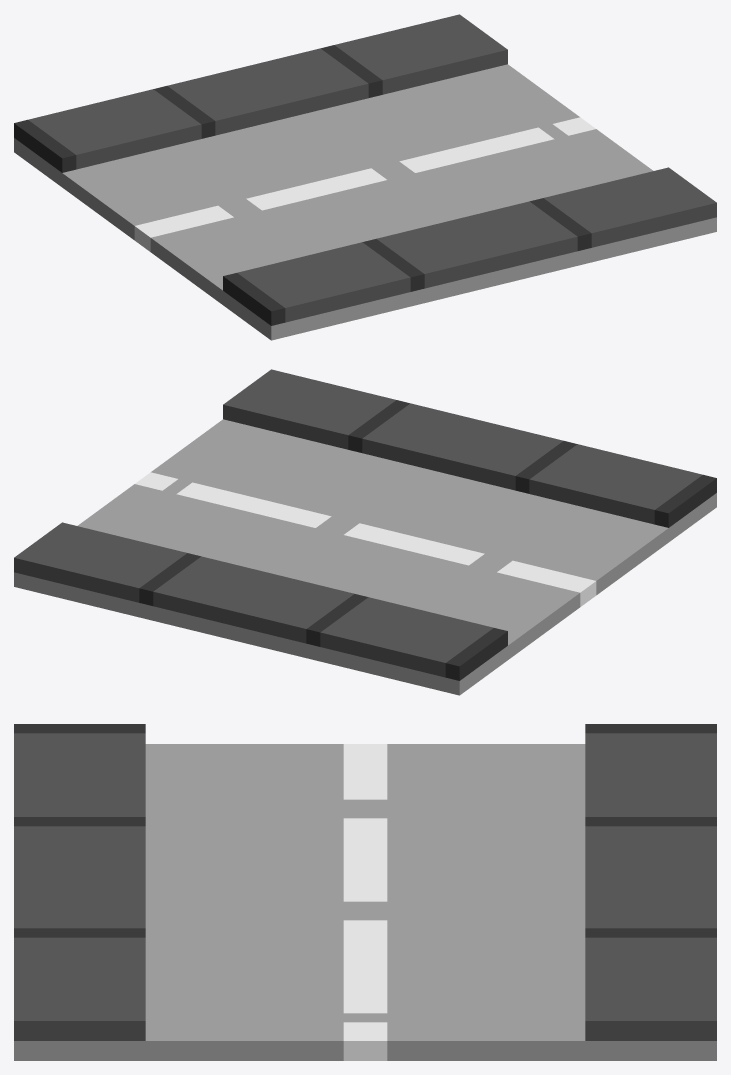
Rendered from town-6.obj.
3 views of the same model, one above another, from view 1: azimuth 30°, elevation 25°; view 2: azimuth 150°, elevation 25°; view 3: azimuth 270°, elevation 25° (orthographic). The views are drawn at different scales.
Size of the model in its own units: 3.2 by 0.2 by 3.2.
Materials: 1 (1 with a texture image).
